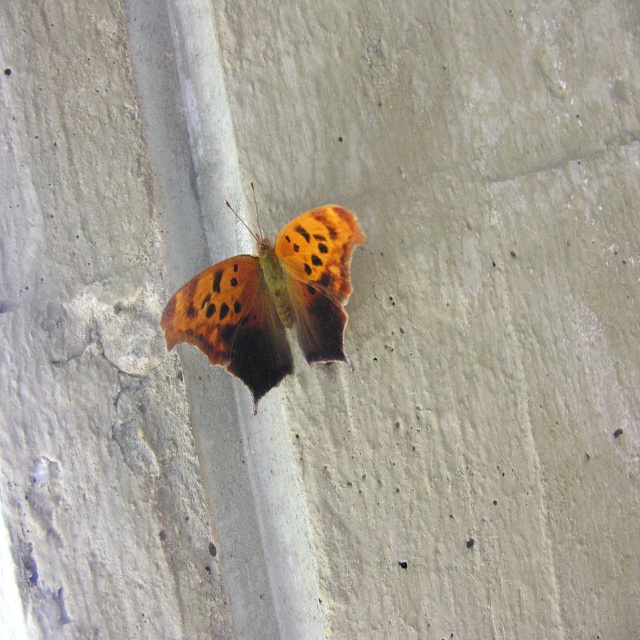Butterfly: (133, 183, 403, 403)
